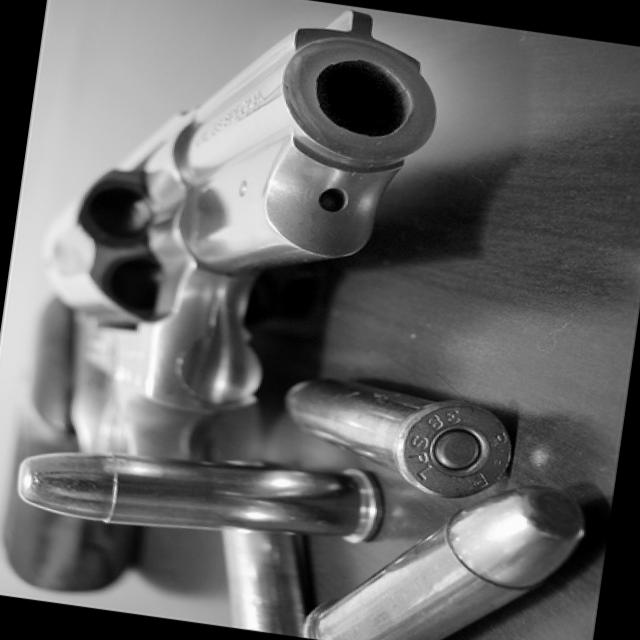handgun: (0, 0, 460, 637)
